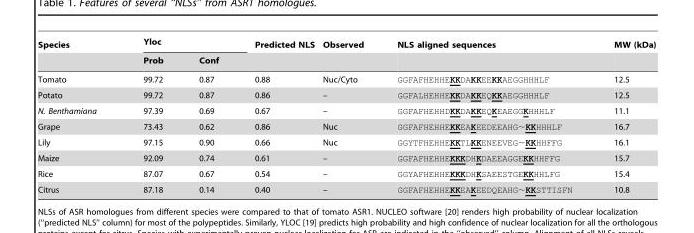table: (37, 37, 655, 194)
table column: (379, 37, 592, 194), (37, 37, 119, 194), (236, 37, 318, 194), (592, 37, 655, 194), (119, 37, 180, 194), (318, 37, 379, 194), (180, 37, 236, 194)
table column header: (37, 37, 655, 69)
table row: (37, 69, 655, 87), (37, 52, 655, 69), (37, 133, 655, 150), (37, 87, 655, 103), (37, 117, 655, 133), (37, 150, 655, 166), (37, 37, 655, 52), (37, 103, 655, 117), (37, 166, 655, 180), (37, 180, 655, 194)
table spanning cell: (379, 37, 592, 69), (37, 37, 119, 69), (236, 37, 318, 69), (592, 37, 655, 69), (318, 37, 379, 69), (119, 37, 236, 52)
